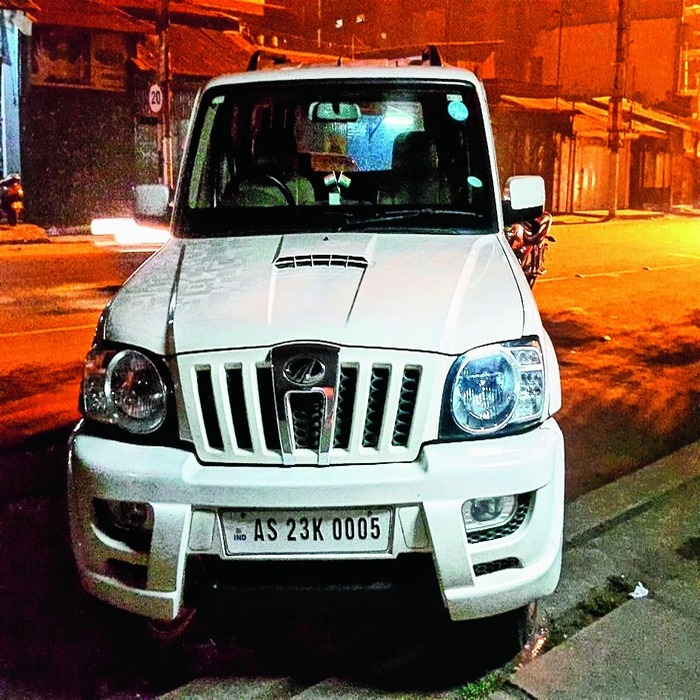n: (220, 508, 394, 554)
